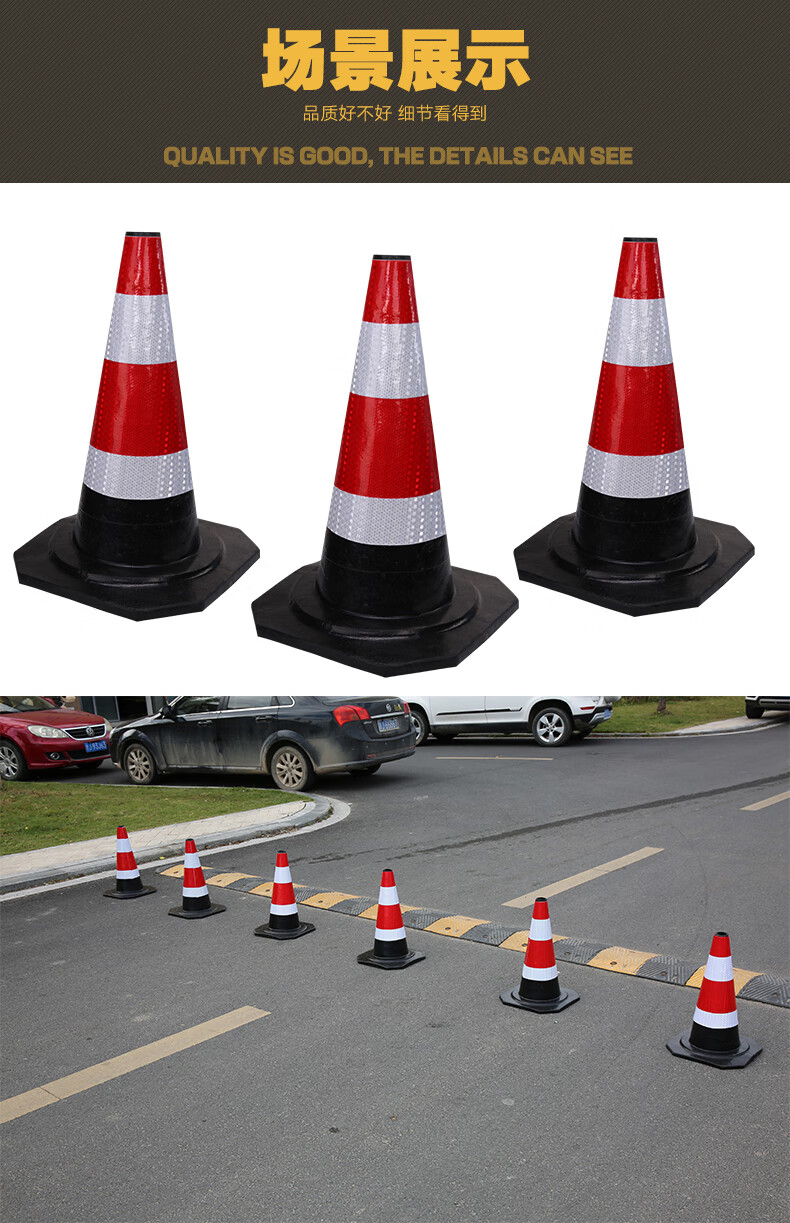traffic_cone: (265, 233, 526, 679), (495, 210, 769, 620), (18, 205, 257, 637), (658, 916, 763, 1074), (494, 883, 590, 1016), (345, 860, 430, 975), (249, 837, 317, 951), (168, 832, 222, 924), (91, 821, 149, 897)
